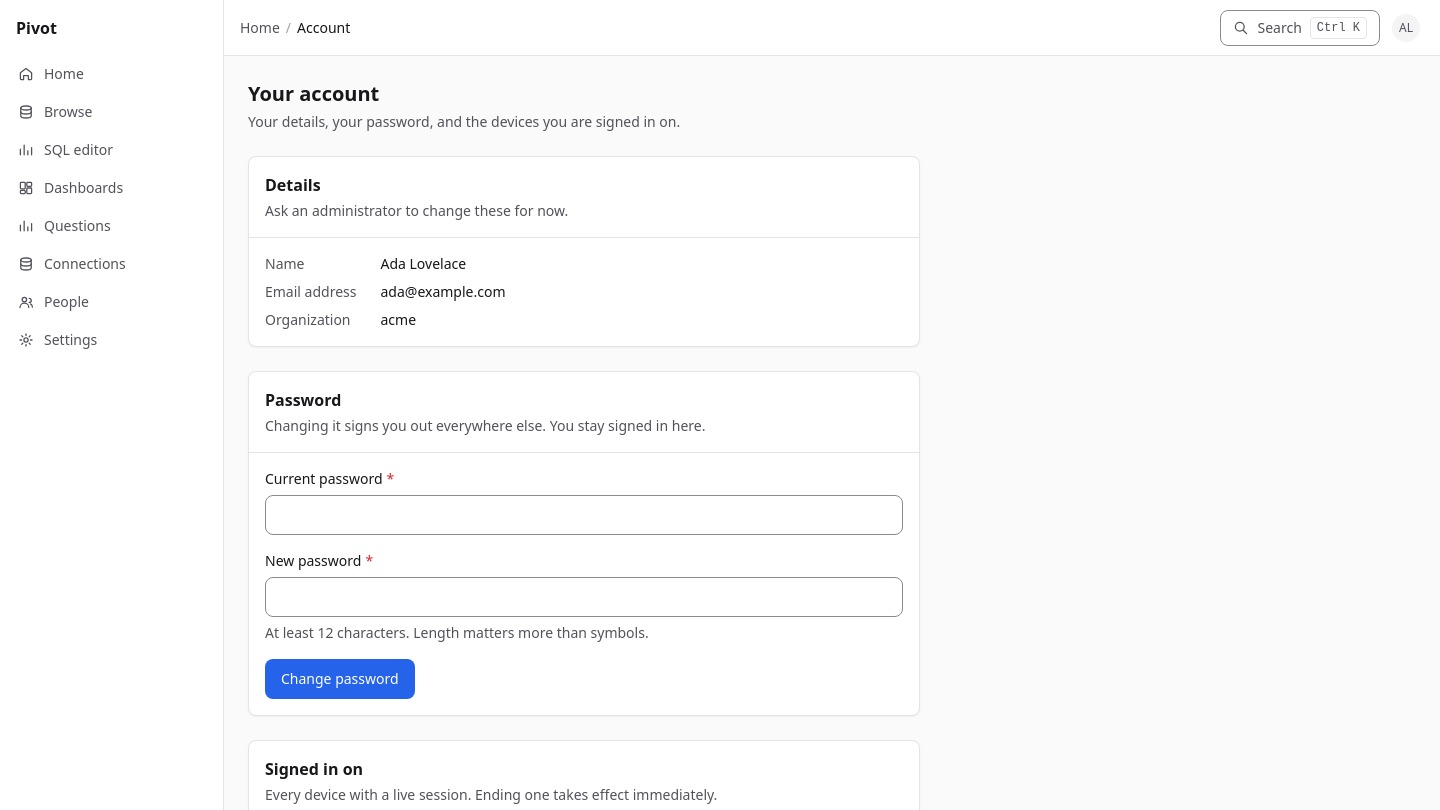
Test case: changing your password › a wrong current password does not send you to the login page
The image size is (1440, 810).
In the password field labelled "Current password*": (584, 515) [265,495,903,535], type "wrong-password-here"
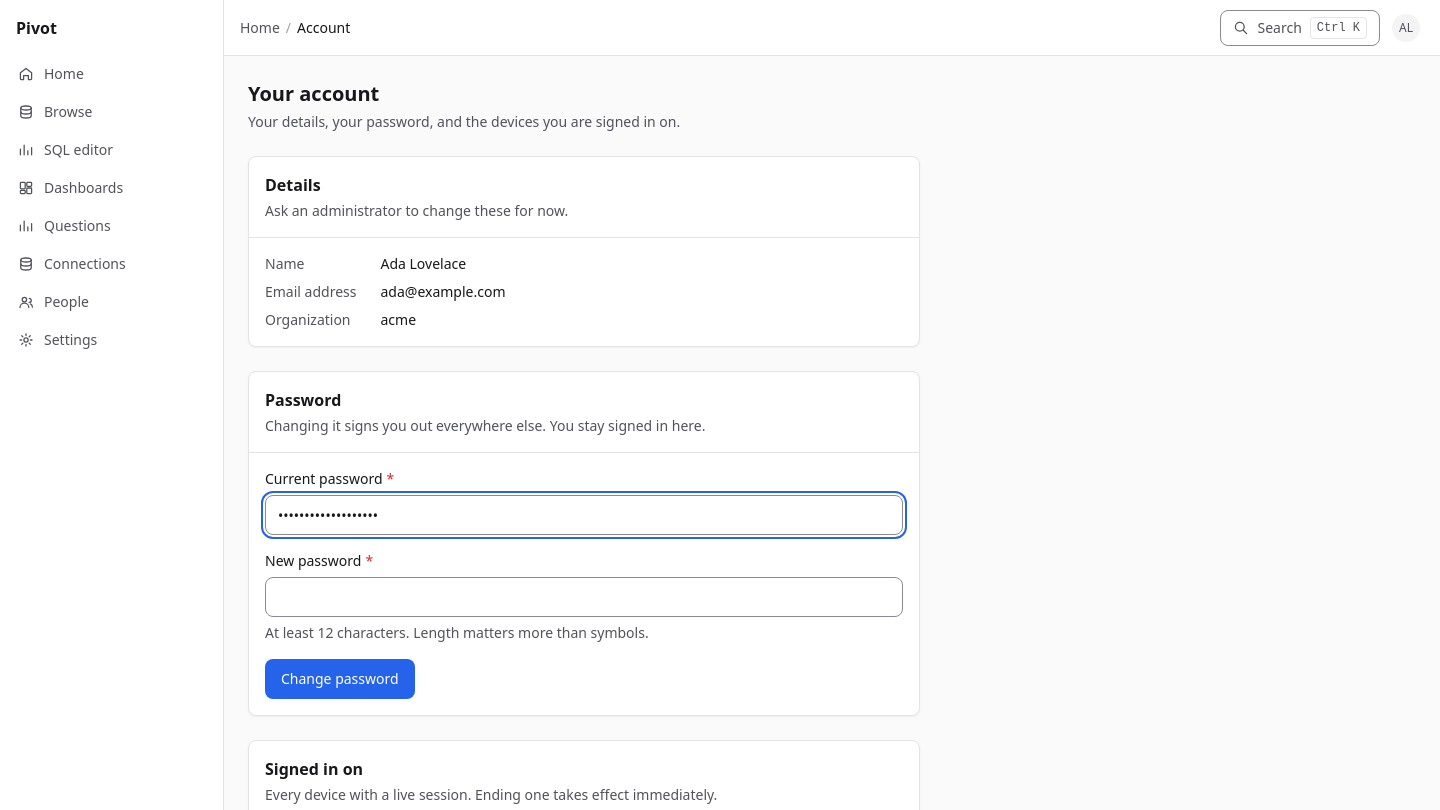
In the password field labelled "New password*": (584, 597) [265,577,903,617], type "a-brand-new-password"
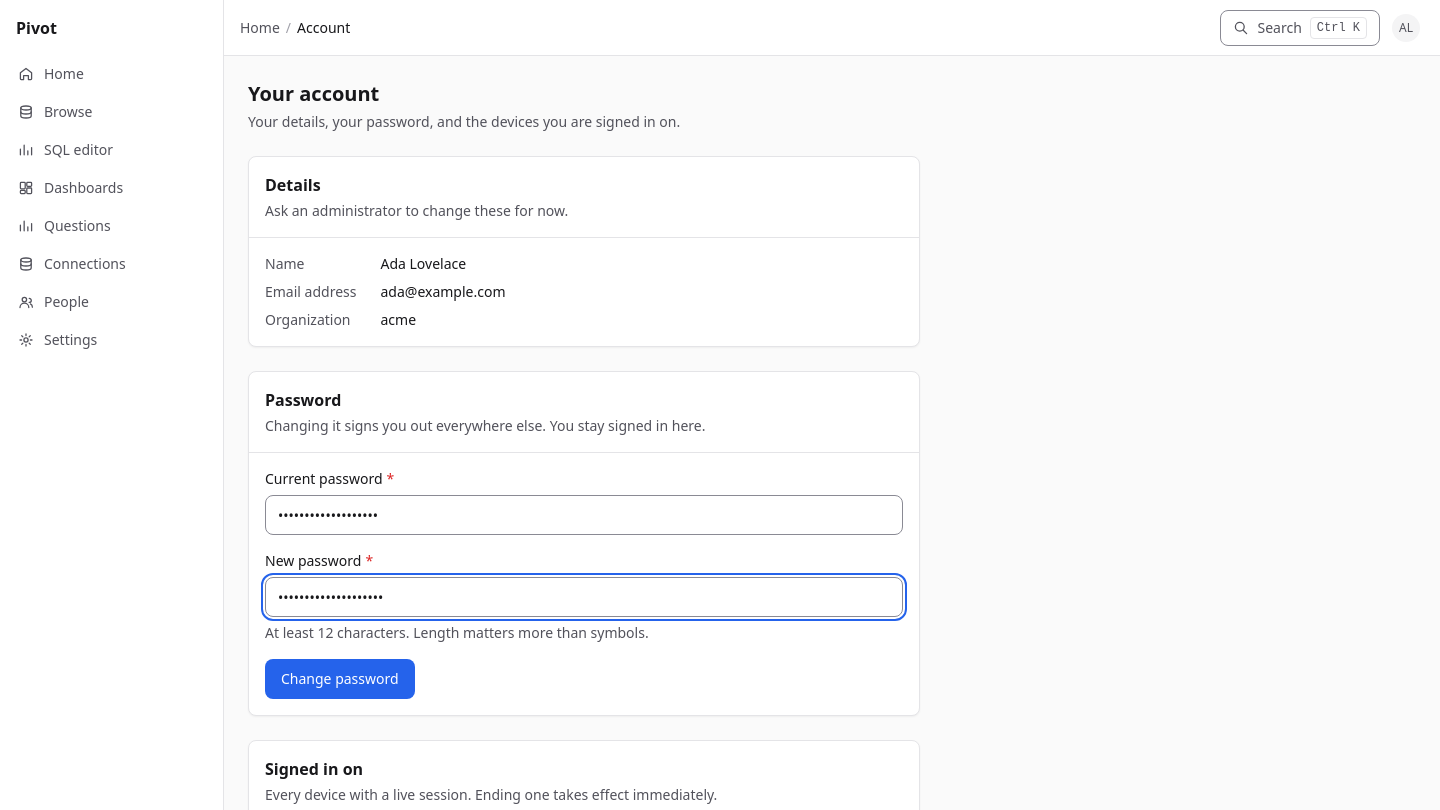
Click the button "Change password": (340, 679) [265,659,415,699]
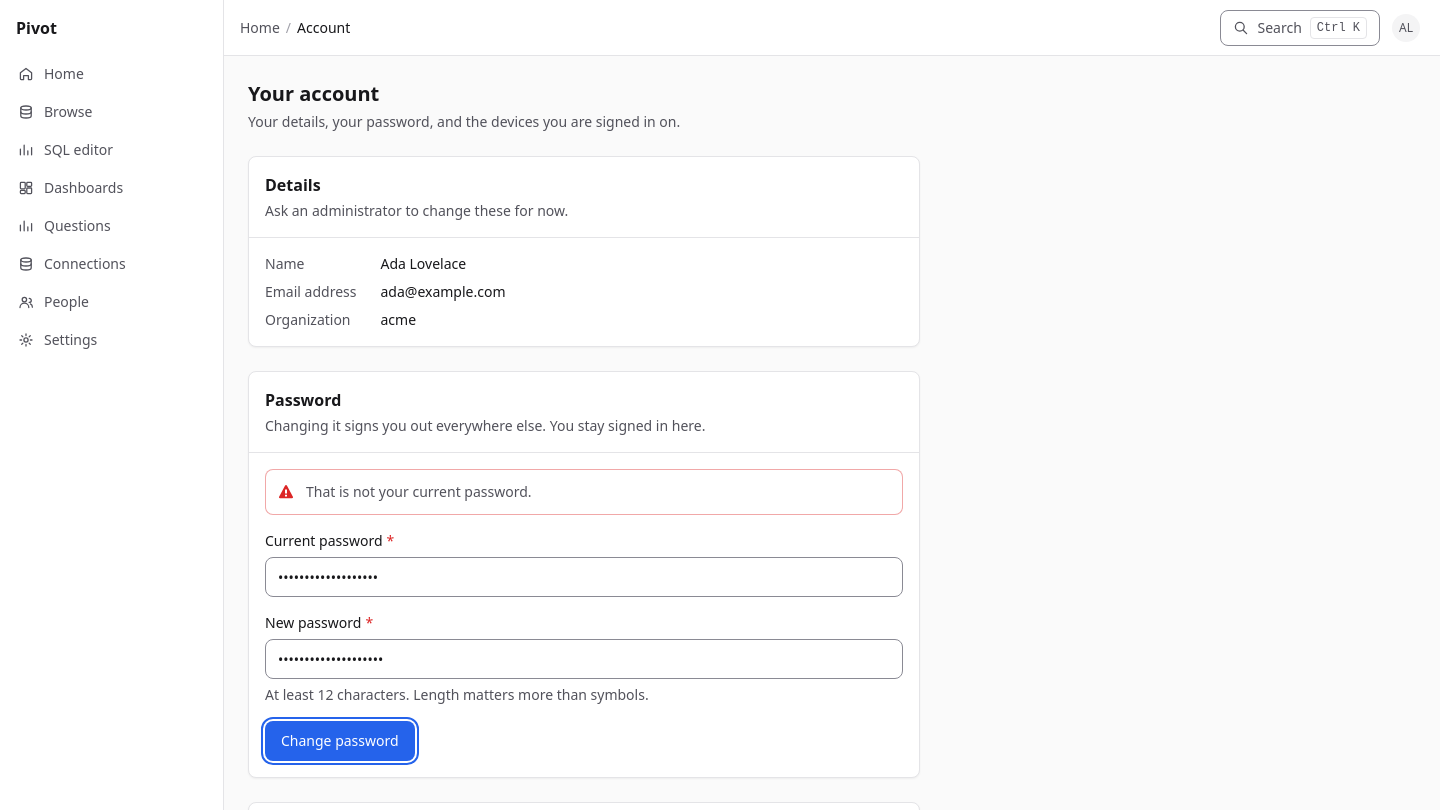
Now the text "That is not your current password." is shown, box [306,482,532,501]
